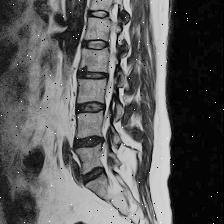disc: (80, 36, 114, 56), (85, 5, 115, 24)
hdisc: (76, 163, 112, 189), (75, 66, 113, 86), (75, 98, 109, 119), (73, 133, 107, 153)
